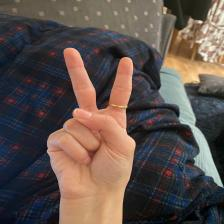two: (45, 42, 141, 191)
